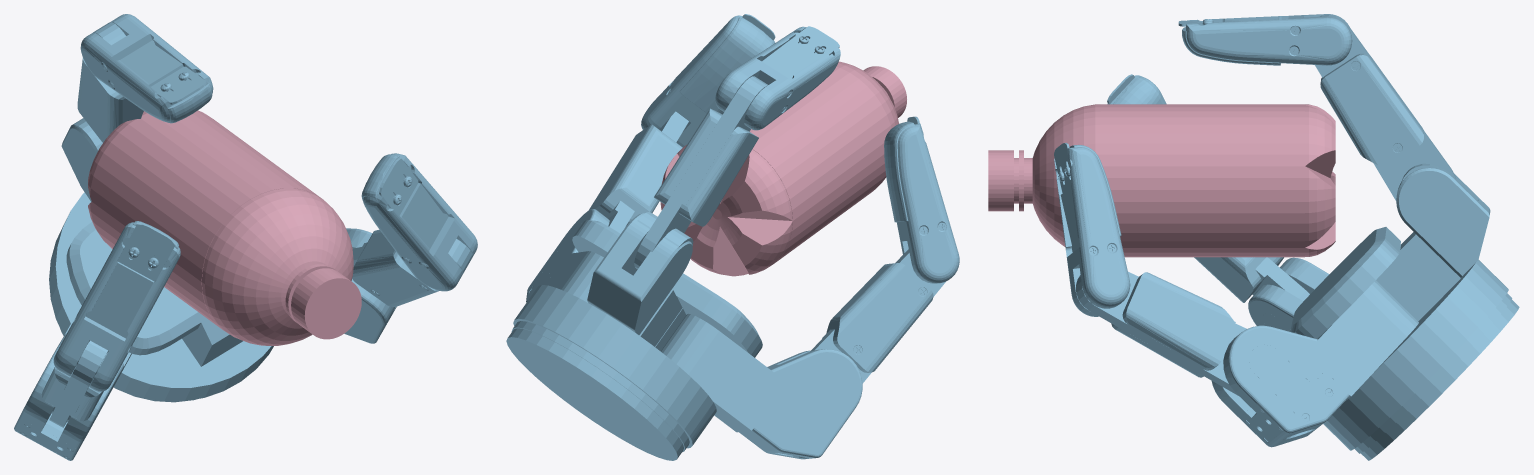
3 views of the same model, side by side, from view 1: azimuth 30°, elevation 25°; view 2: azimuth 150°, elevation 25°; view 3: azimuth 270°, elevation 25° (orthographic). The views are drawn at different scales.
Visible parts, largest first — view 1: world, water_bottle.stl; view 2: world, water_bottle.stl; view 3: world, water_bottle.stl.
Boxes of the visible parts, bbox=[...] form: world: bbox=[14, 14, 477, 460]; water_bottle.stl: bbox=[88, 110, 361, 345]; world: bbox=[506, 14, 959, 460]; water_bottle.stl: bbox=[660, 61, 906, 276]; world: bbox=[1054, 14, 1519, 460]; water_bottle.stl: bbox=[988, 104, 1335, 257].
Size of the model in its own units: 0.1744 by 0.1709 by 0.2087.
